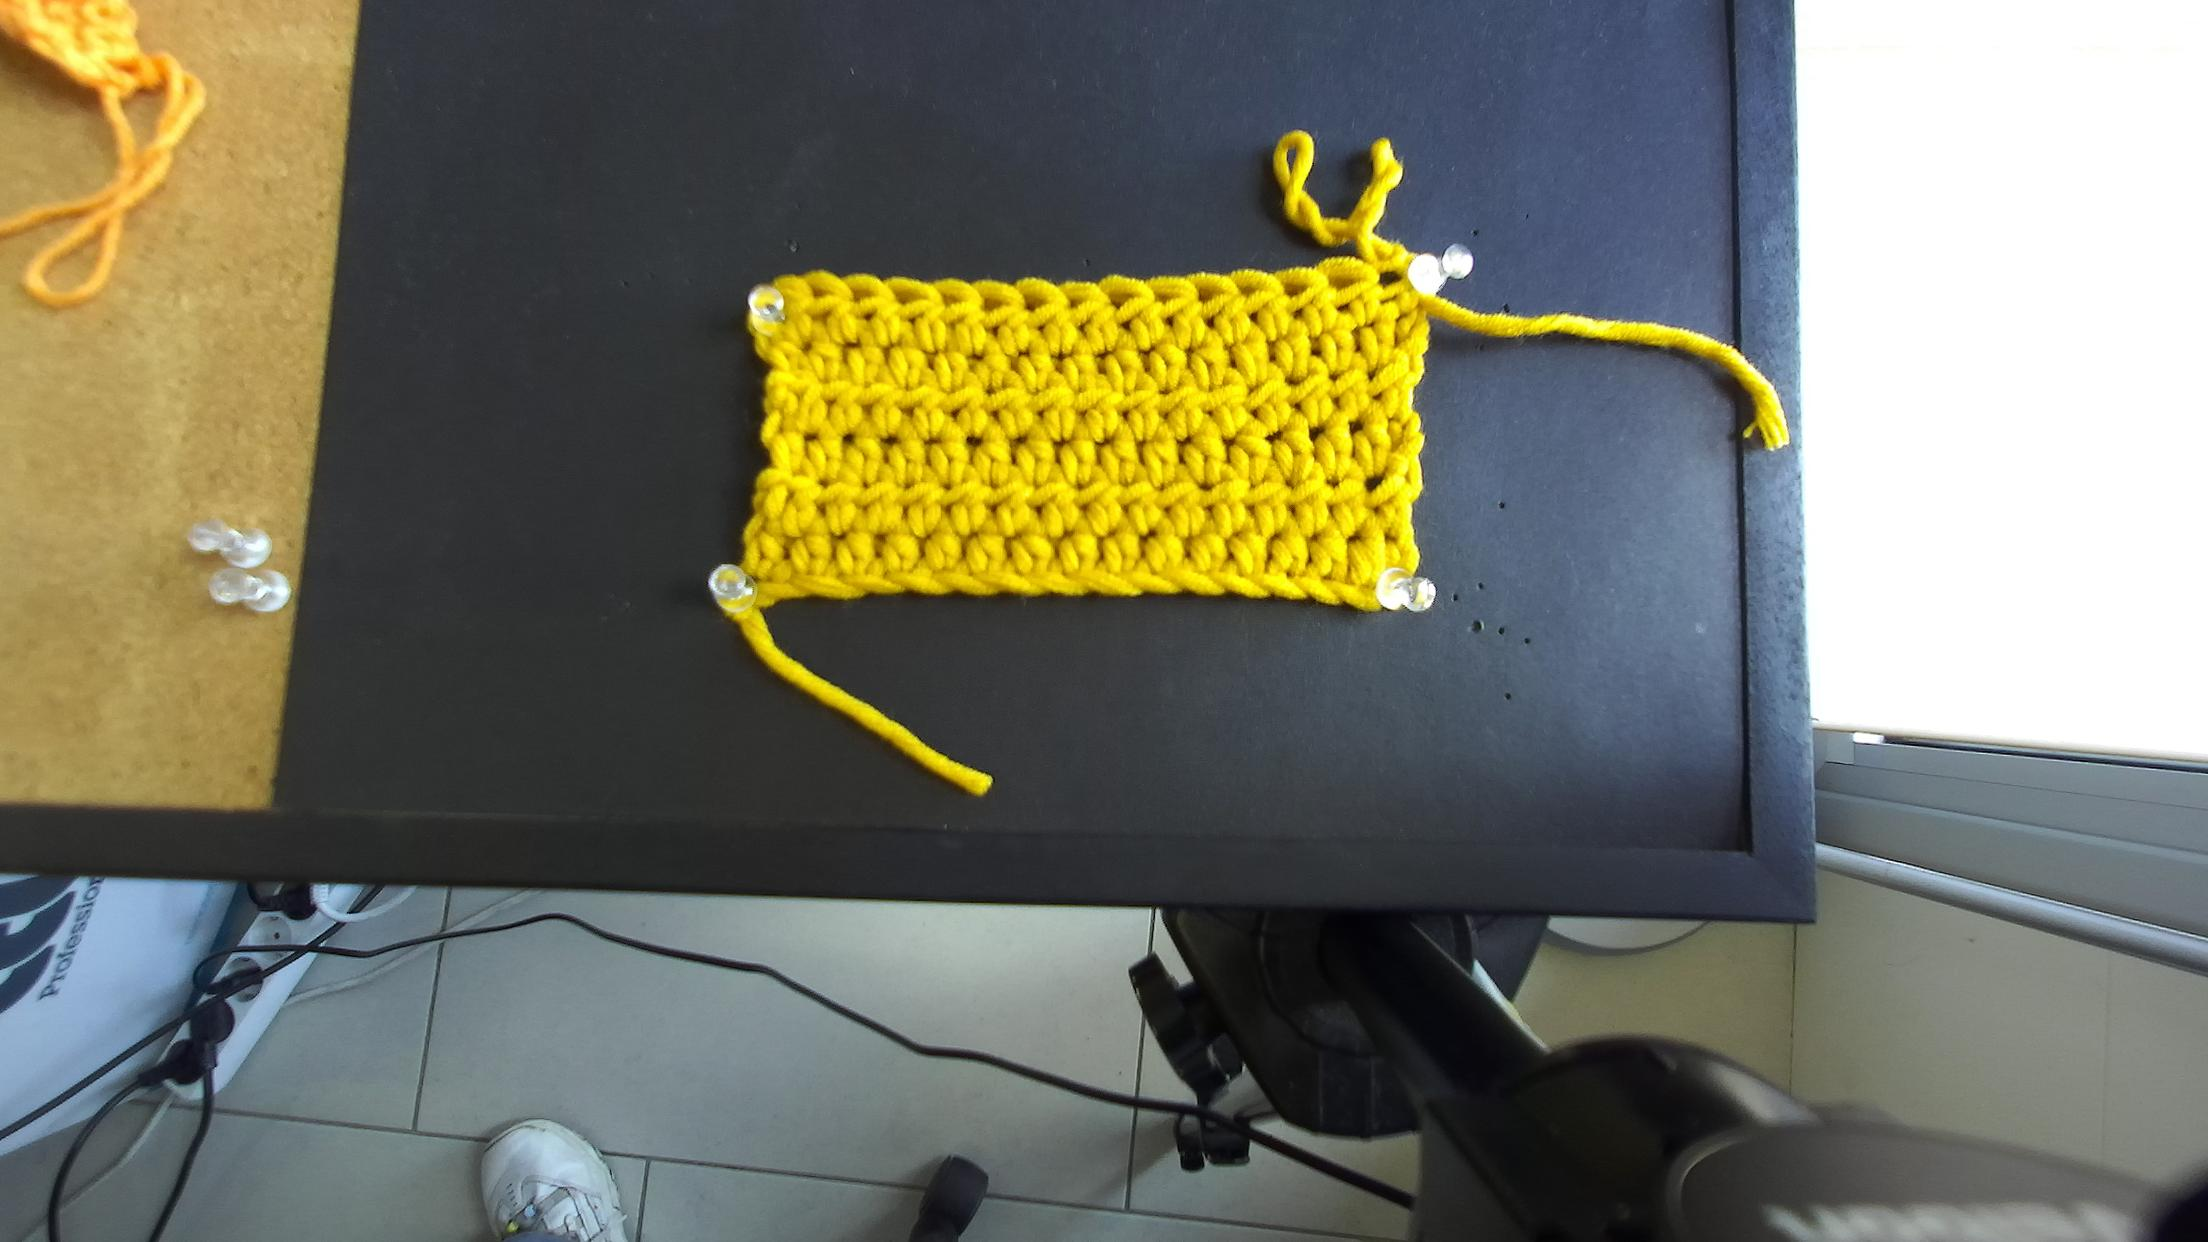hole: (889, 284, 928, 303), (1327, 271, 1360, 291), (1195, 282, 1225, 303), (1149, 284, 1181, 303), (1280, 279, 1310, 297), (1022, 293, 1049, 312), (1109, 290, 1136, 309), (983, 296, 1011, 314), (1375, 271, 1404, 290), (808, 284, 836, 302), (940, 293, 968, 308), (1065, 296, 1090, 311), (1236, 284, 1259, 300), (852, 290, 877, 302)
swatch: (739, 241, 1436, 614)
